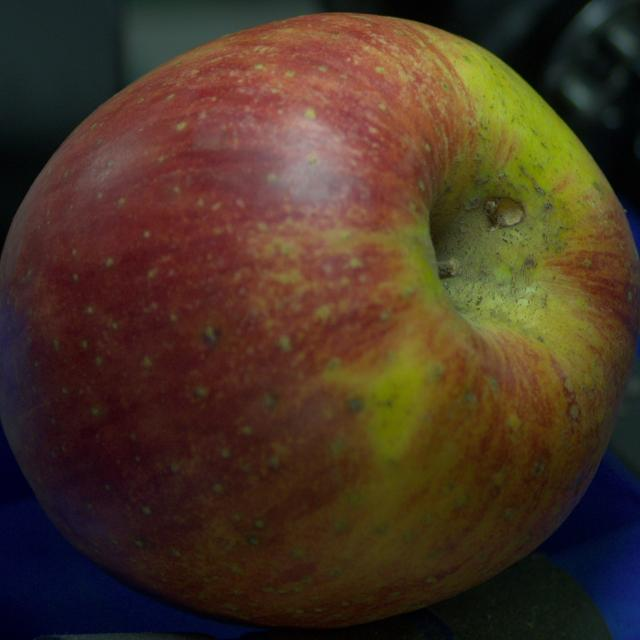apple: (0, 14, 639, 626)
pest: (202, 326, 218, 343)
scratch: (485, 197, 524, 229)
